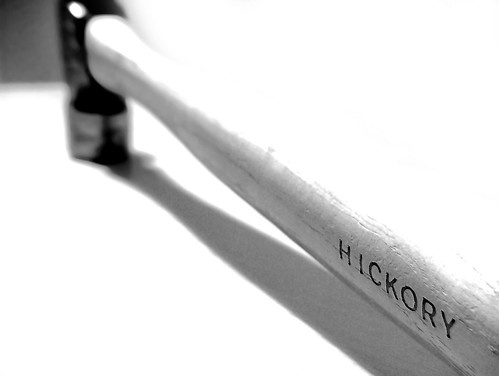hammer: (56, 1, 499, 373)
